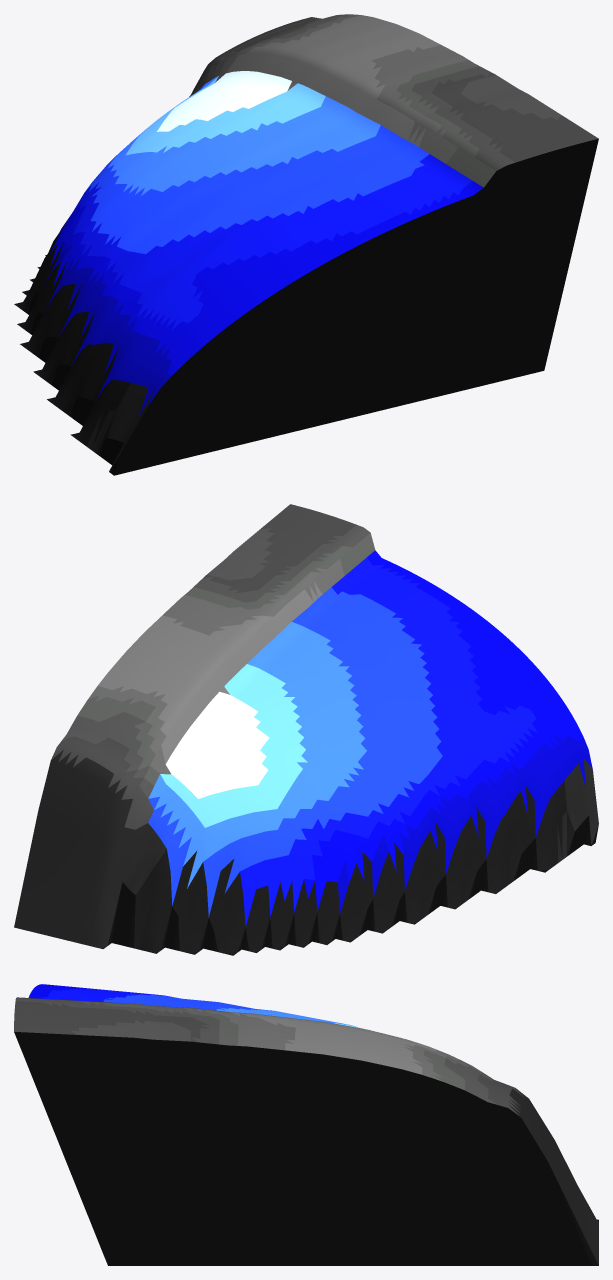
The model's file is time_capsule_16.glb.
3 renders of one model, top to bottom at view 1: azimuth 30°, elevation 25°; view 2: azimuth 150°, elevation 25°; view 3: azimuth 270°, elevation 25°, orthographic. The views are drawn at different scales.
Parts seen in each view (by area): view 1: time_capsule_16; view 2: time_capsule_16; view 3: time_capsule_16.
Part boxes in pixels (box(x1,y1,x2,y2)): time_capsule_16: box(14, 14, 598, 475); time_capsule_16: box(14, 504, 598, 955); time_capsule_16: box(14, 984, 598, 1265).
Size of the model in its own units: 23.5 by 14.2 by 32.17.
